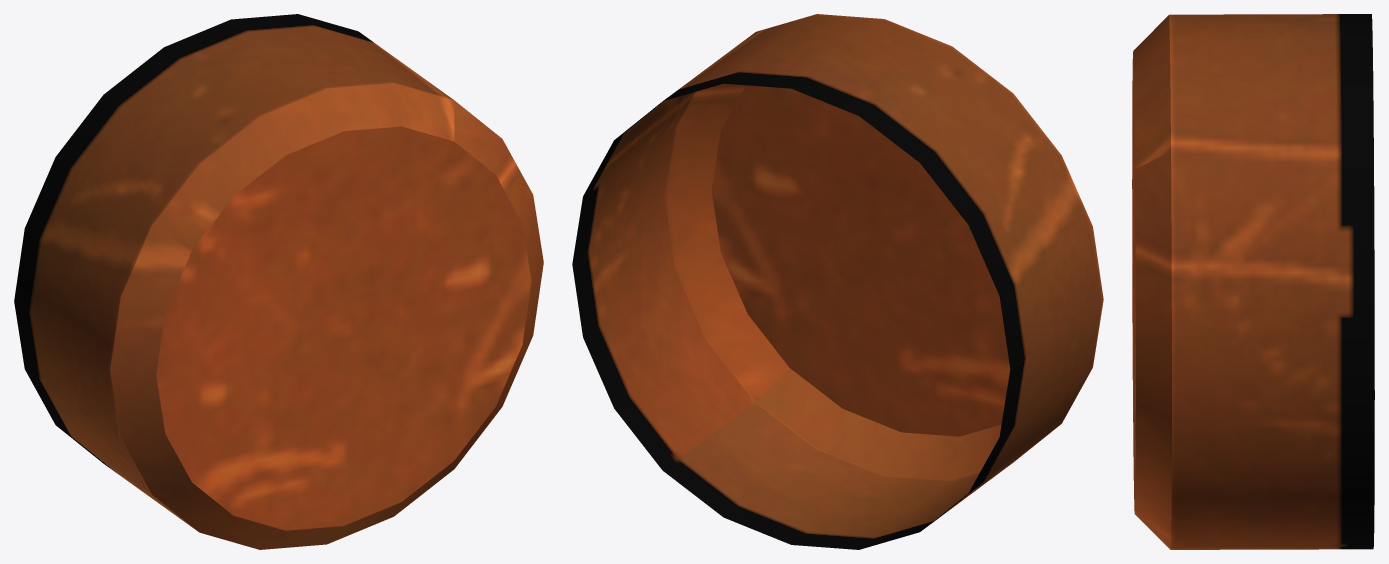
The model's file is radio_dial2.fbx.
3 renders of one model, left to right at view 1: azimuth 30°, elevation 25°; view 2: azimuth 150°, elevation 25°; view 3: azimuth 270°, elevation 25°, orthographic. The views are drawn at different scales.
Parts seen in each view (by area): view 1: Dial2; view 2: Dial2; view 3: Dial2.
Part boxes in pixels (x1,y1,x2,y2): Dial2: [14, 14, 543, 549]; Dial2: [572, 14, 1103, 549]; Dial2: [1132, 14, 1374, 549].
Bounding box in the file's own units: 0.0299 × 0.0298 × 0.0134.
1 material, 1 textured.
